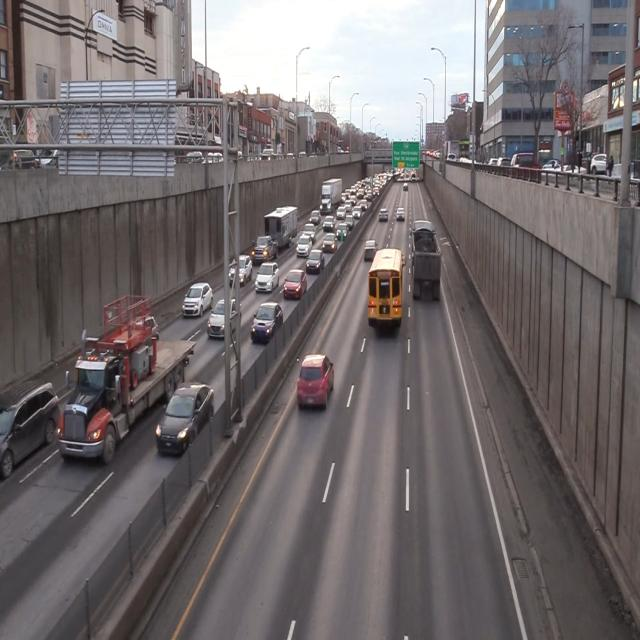Car: (56, 294, 191, 468), (0, 370, 64, 481), (156, 384, 221, 456), (364, 248, 405, 341), (295, 350, 340, 412), (410, 218, 442, 302), (248, 298, 284, 355), (208, 297, 244, 344), (182, 278, 215, 320), (280, 267, 310, 304), (227, 252, 256, 290), (253, 261, 281, 296), (363, 233, 380, 265)
